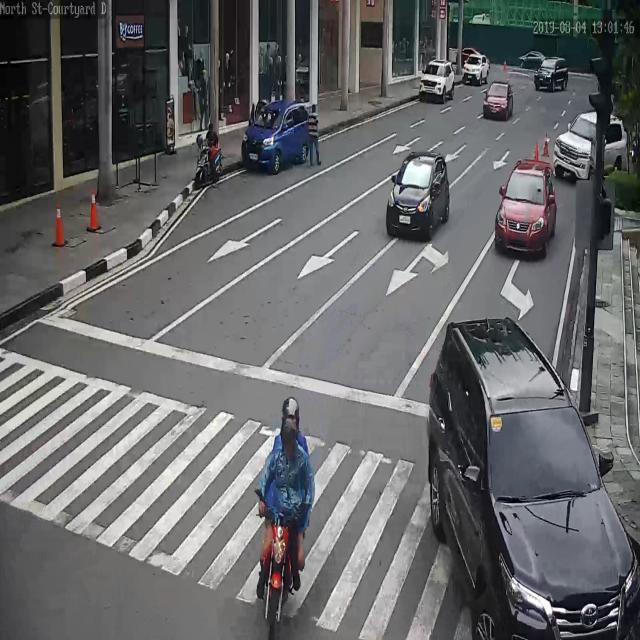car: (427, 314, 639, 640), (495, 158, 557, 258), (386, 149, 449, 237), (242, 99, 313, 175), (555, 112, 625, 182), (419, 59, 455, 104), (483, 79, 515, 122), (534, 56, 570, 92), (461, 52, 490, 84)
jeepney: (257, 398, 315, 632), (193, 120, 222, 192)
